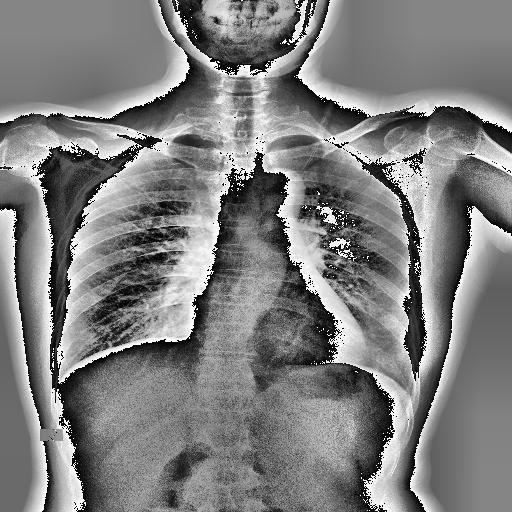0- Aortic enlargement: (256, 168, 306, 224), (252, 168, 302, 214), (258, 169, 306, 215)
8- Nodule-Mass: (378, 313, 399, 330)
